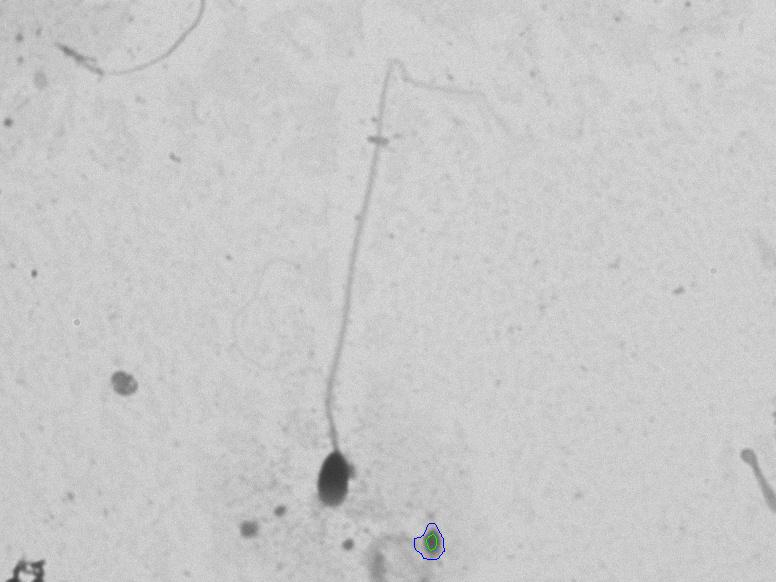Normal: (240, 65, 503, 527)
